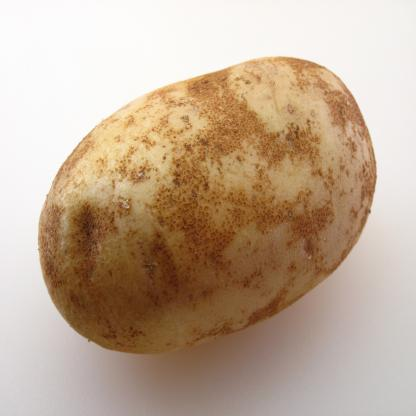--: (32, 49, 386, 358)
